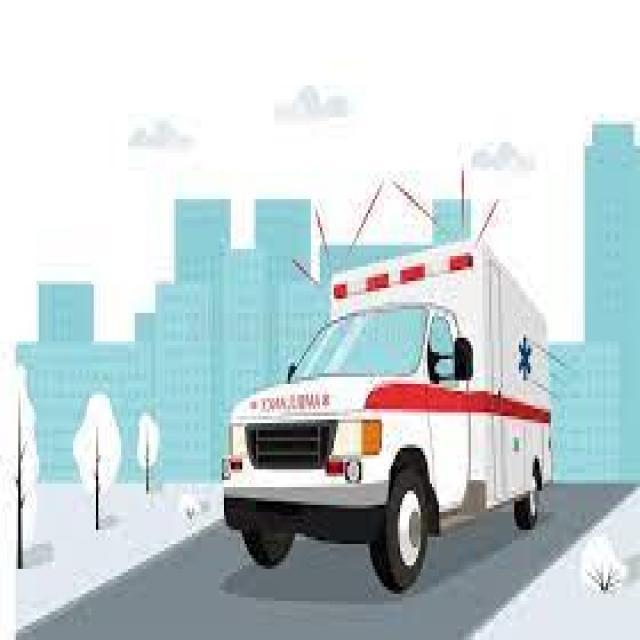emergency-vehicle: (215, 185, 560, 583)
